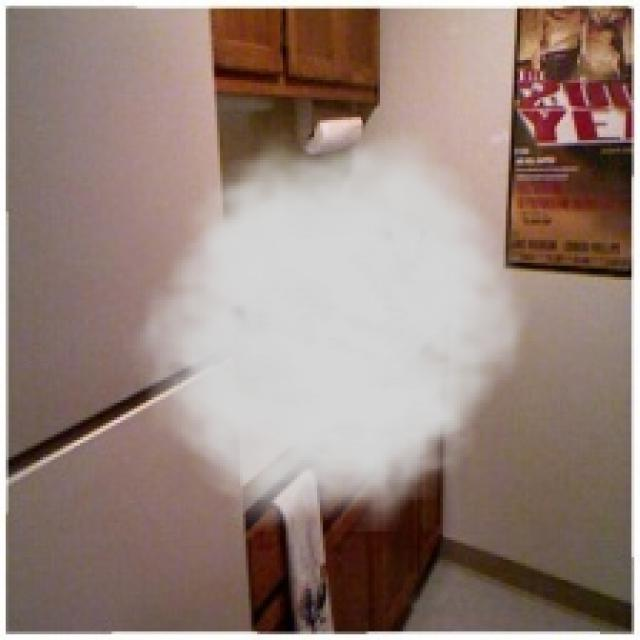smoke: (123, 114, 543, 532)
